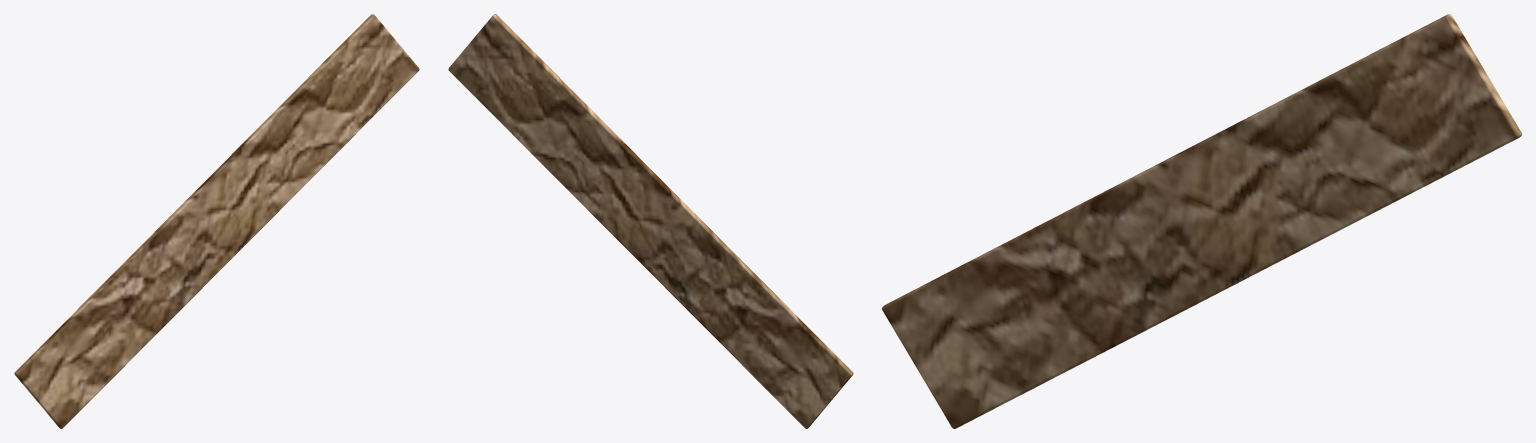
File: TechoCantina.obj
3 views of the same model, side by side, from view 1: azimuth 30°, elevation 25°; view 2: azimuth 150°, elevation 25°; view 3: azimuth 330°, elevation 25° (orthographic). The views are drawn at different scales.
Visible parts, largest first — view 1: Object.1; view 2: Object.1; view 3: Object.1.
Boxes of the visible parts, bbox=[...] form: Object.1: bbox=[14, 14, 419, 428]; Object.1: bbox=[448, 14, 853, 428]; Object.1: bbox=[882, 14, 1521, 428].
Bounding box in the file's own units: 23196 × 18550 × 300.
1 material, 1 textured.
